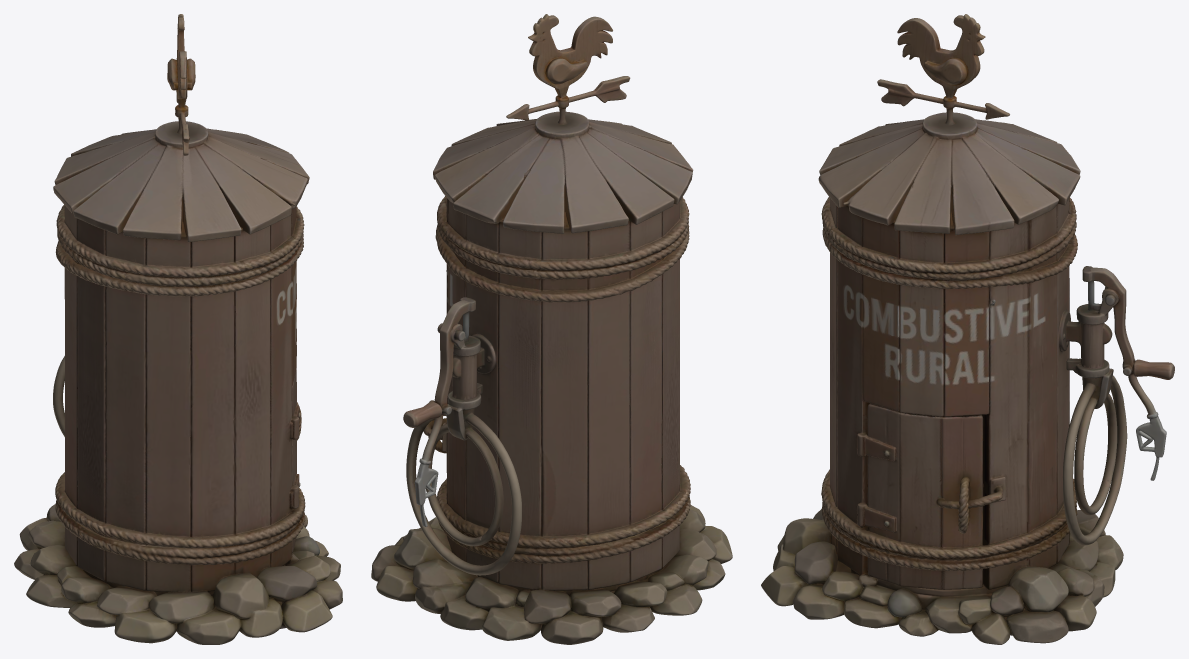
File: wooden+fuel+drum+3d+model.fbx
3 views of the same model, side by side, from view 1: azimuth 30°, elevation 25°; view 2: azimuth 150°, elevation 25°; view 3: azimuth 270°, elevation 25° (orthographic).
Parts seen in each view (by area): view 1: meshes[0]; view 2: meshes[0]; view 3: meshes[0].
Part boxes in pixels (x1,y1,x2,y2): meshes[0]: [14, 14, 342, 644]; meshes[0]: [371, 14, 732, 644]; meshes[0]: [761, 14, 1174, 644].
Size of the model in its own units: 0.5413 by 1 by 0.6622.
1 material, 1 textured.
